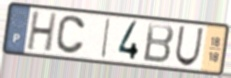4: (116, 19, 141, 62)
B: (142, 21, 176, 65)
C: (54, 14, 87, 56)
H: (25, 10, 59, 54)
I: (99, 17, 113, 60)
U: (173, 25, 205, 68)
